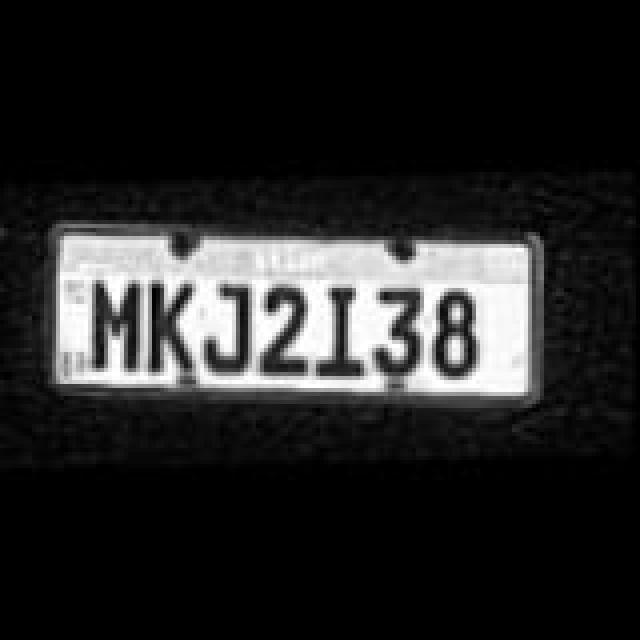2: (260, 280, 308, 372)
3: (376, 286, 424, 378)
8: (432, 286, 480, 378)
I: (322, 284, 366, 376)
J: (208, 282, 256, 374)
K: (148, 276, 196, 372)
M: (92, 278, 140, 370)
